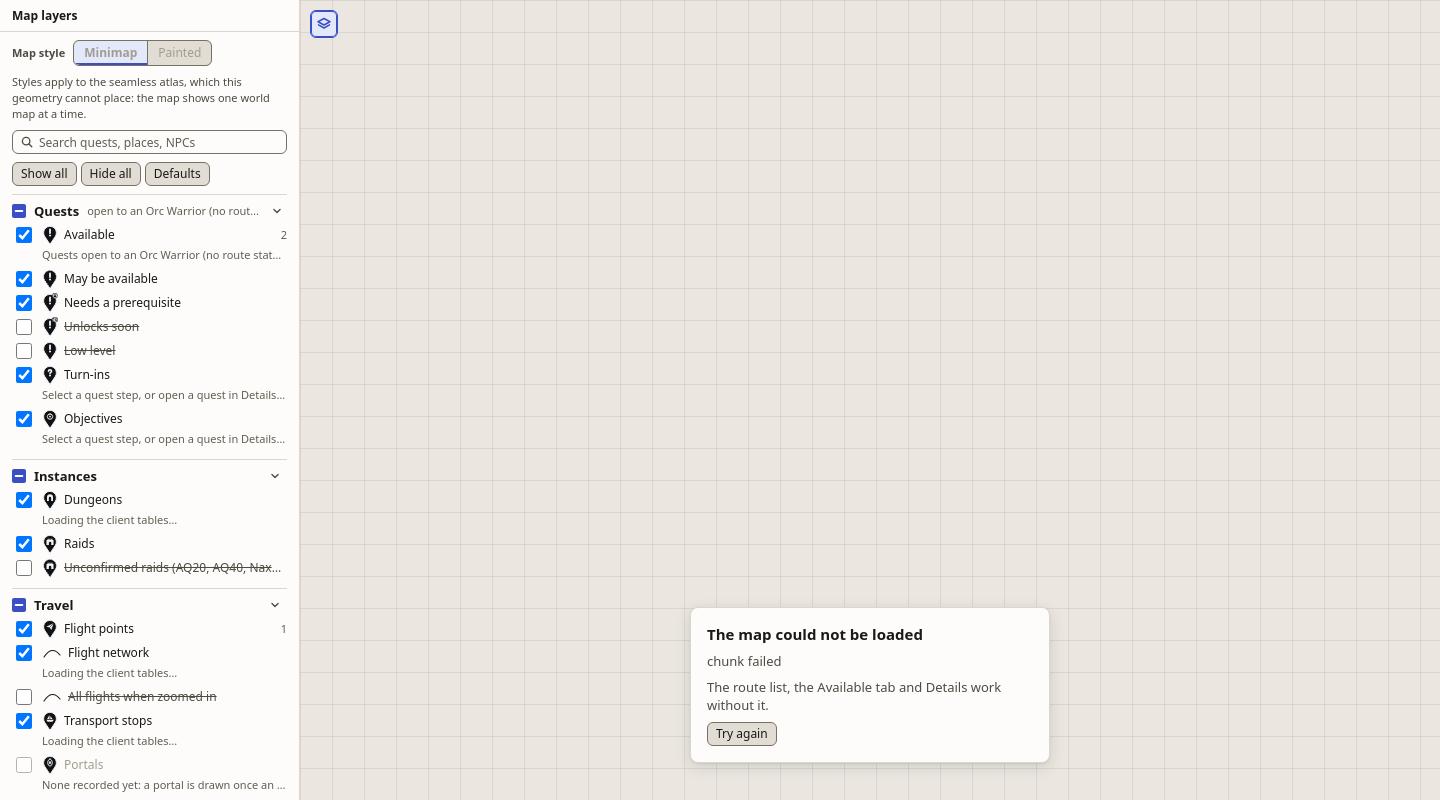
MapPanel: the engine › offers a retry when the engine cannot be loaded
The width and height of the screenshot is (1440, 800).
Expected: the message shows "The map could not be loaded", top-left (707, 624), bottom-right (923, 644)
Expected: the message shows "chunk failed", top-left (707, 652), bottom-right (782, 670)
Click the button "Try again" at (742, 734), box top-left (707, 722), bottom-right (777, 746)
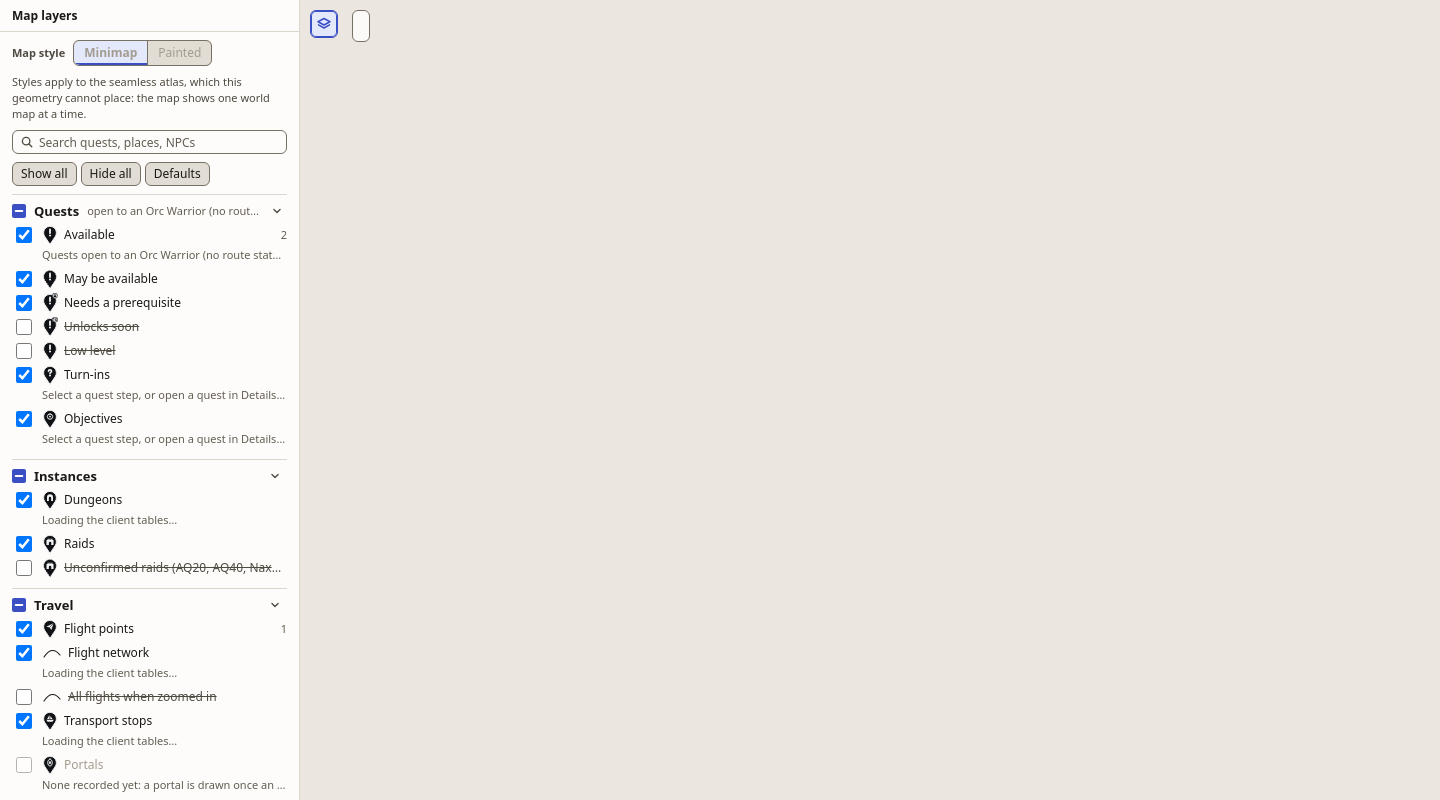
Result: the message is gone
